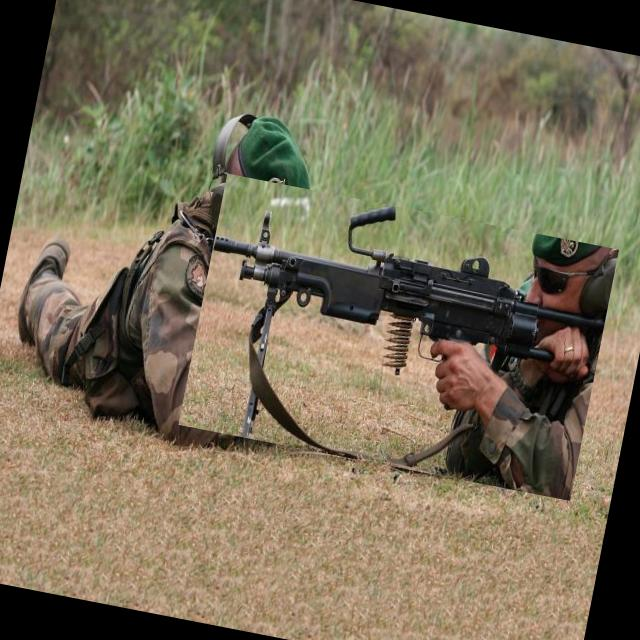Gun: (213, 207, 605, 468)
